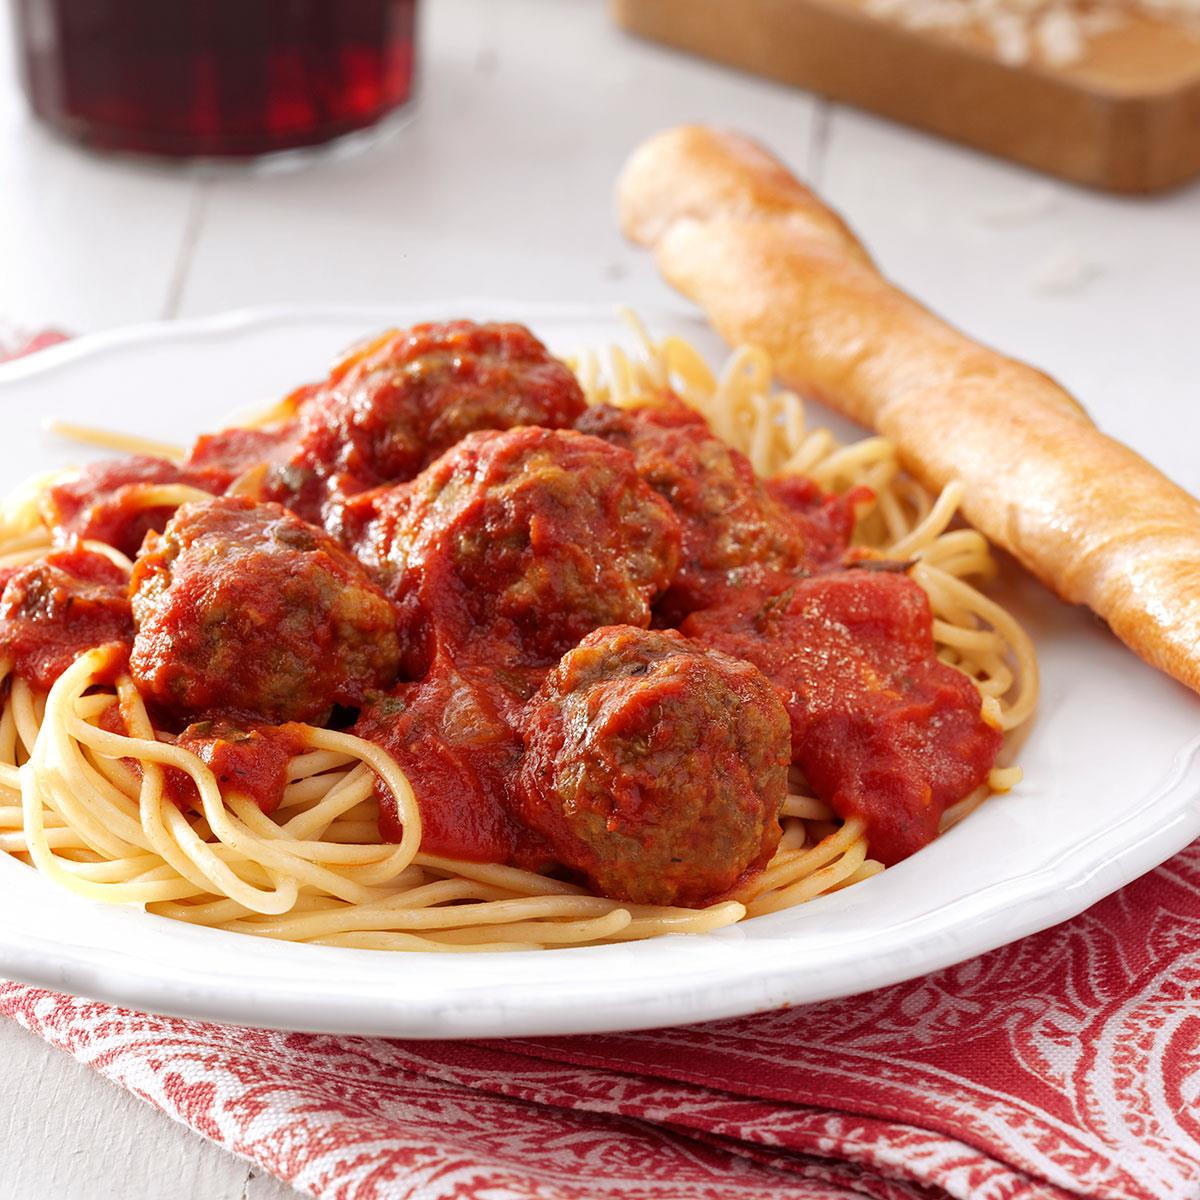meatballs: (520, 629, 780, 884), (146, 511, 388, 727), (416, 427, 652, 647), (343, 315, 562, 468)
plain spaghetti: (1, 744, 426, 937), (747, 385, 963, 592)
